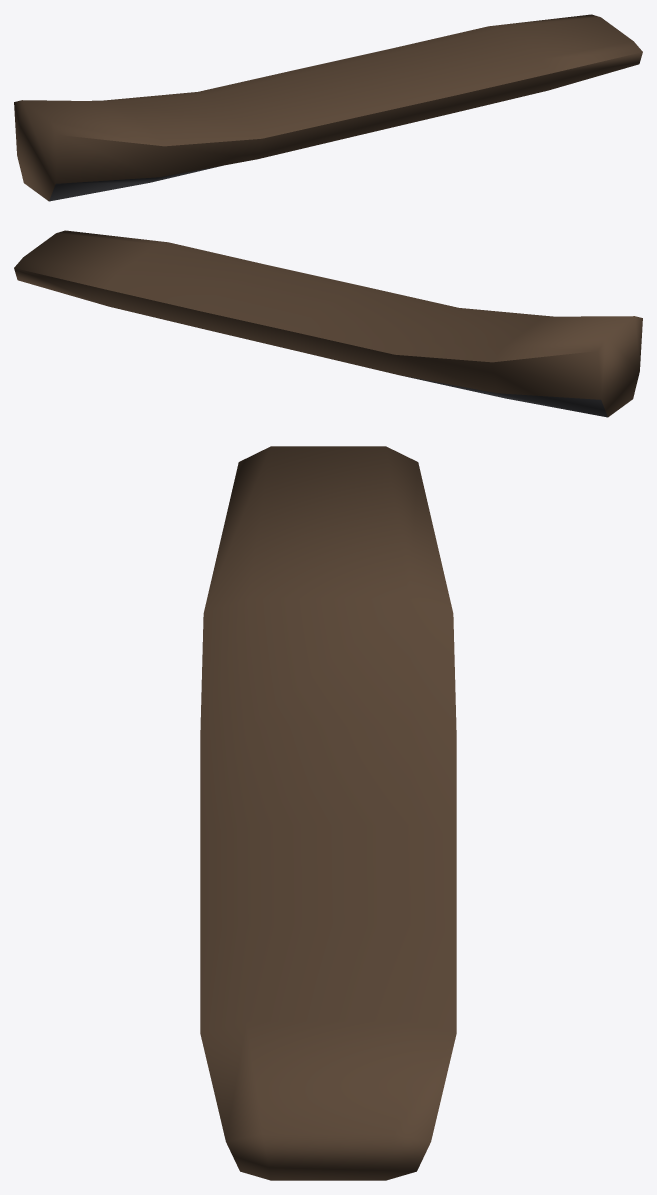
Rendered from flat_track_lod2.glb.
The picture shows the model from 3 angles, top to bottom: view 1: azimuth 30°, elevation 25°; view 2: azimuth 150°, elevation 25°; view 3: azimuth 270°, elevation 25°; orthographic projection. The views are drawn at different scales.
Visible parts, largest first — view 1: flat_track_lod2; view 2: flat_track_lod2; view 3: flat_track_lod2.
Boxes of the visible parts, x1,y1,x2,y2 form: flat_track_lod2: (14,14,642,201); flat_track_lod2: (14,230,642,417); flat_track_lod2: (200,446,456,1180).
Bounding box in the file's own units: 1 × 0.1377 × 0.1912.
